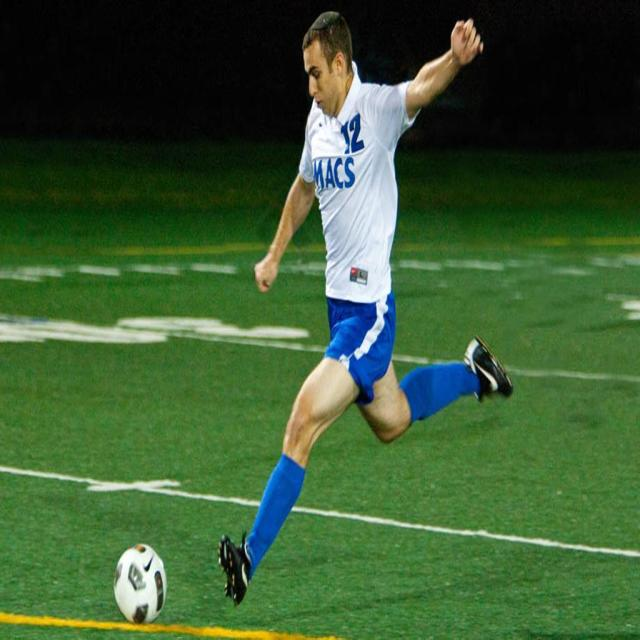Face: (301, 31, 345, 128)
